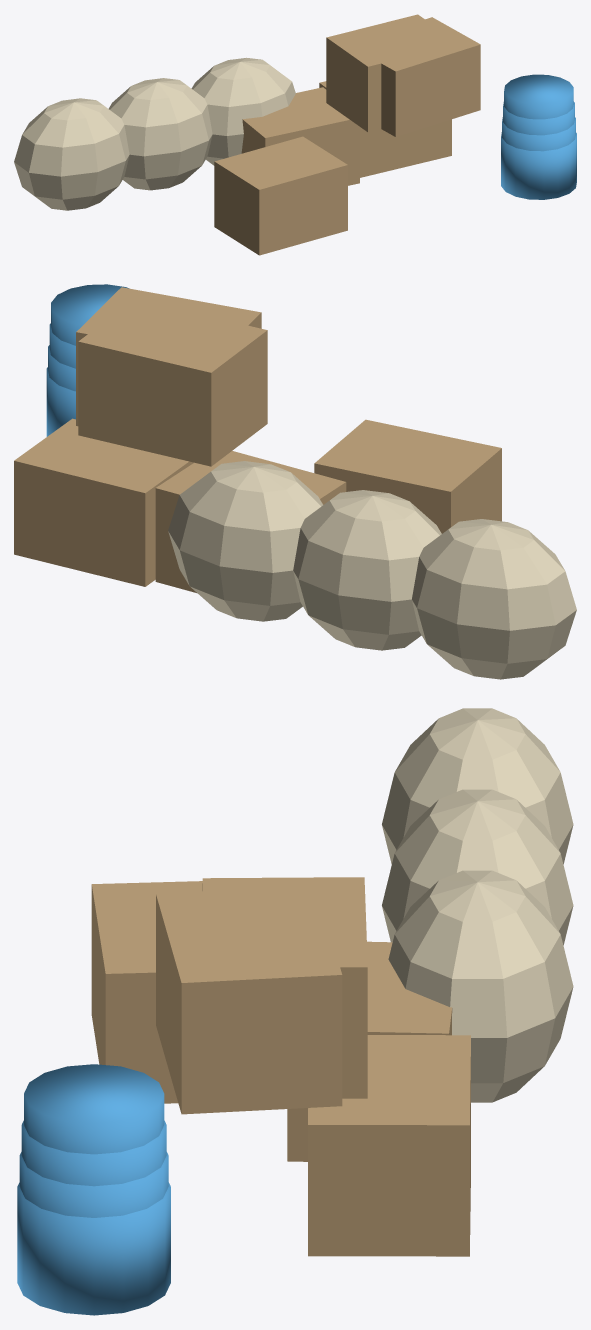
Rendered from life_goods.glb.
3 views of the same model, one above another, from view 1: azimuth 30°, elevation 25°; view 2: azimuth 150°, elevation 25°; view 3: azimuth 270°, elevation 25° (orthographic). The views are drawn at different scales.
Visible parts, largest first — view 1: Crate; view 2: Crate; view 3: Crate.
Part boxes in pixels (left/top/right/bottom): Crate: left=14, top=14, right=576, bottom=255; Crate: left=14, top=284, right=576, bottom=679; Crate: left=17, top=708, right=573, bottom=1315.
Bounding box in the file's own units: 2.47 × 0.7 × 1.31.
